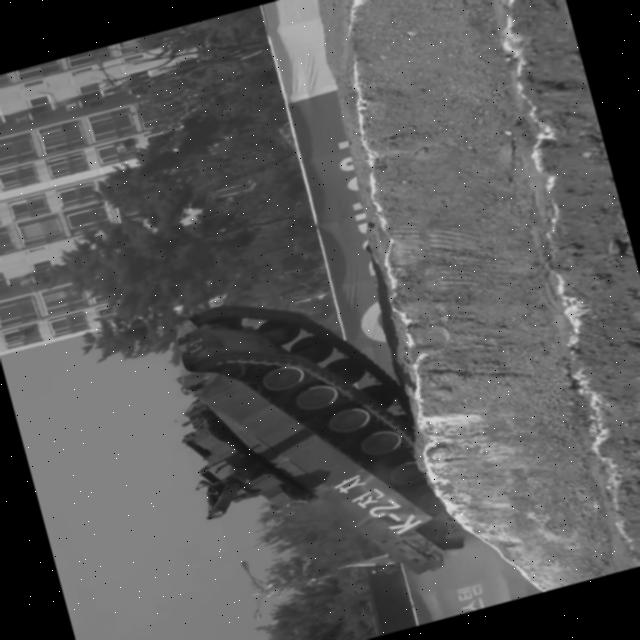korea tank: (141, 255, 477, 628)
